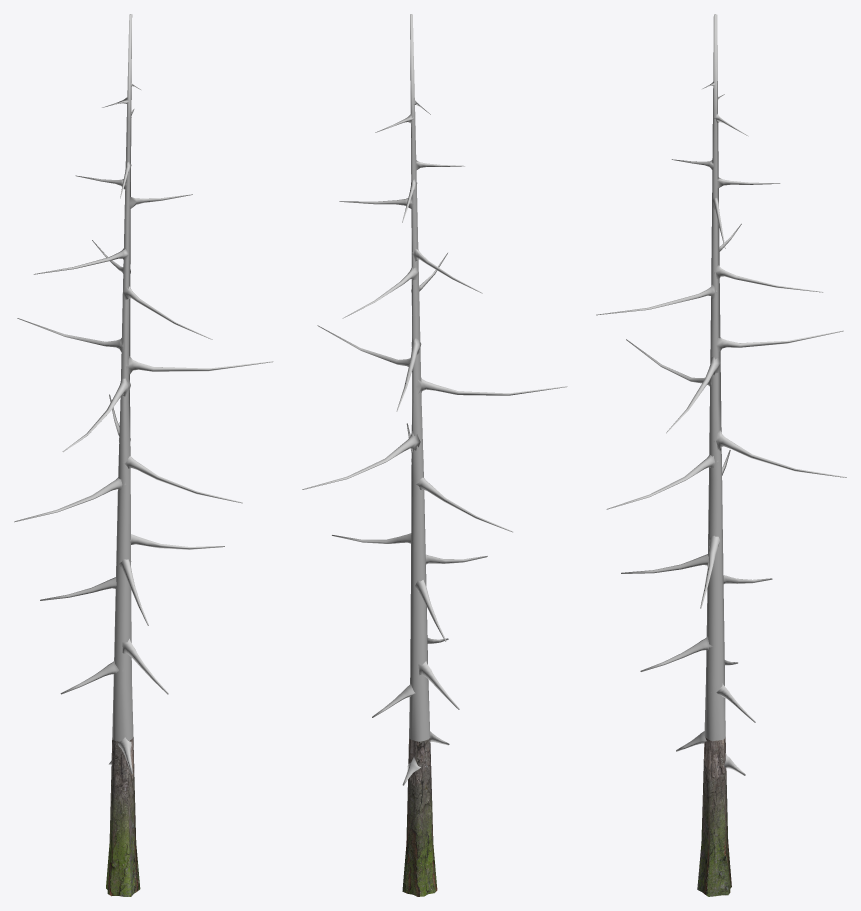
The model's file is pine_no_leaves.obj.
The picture shows the model from 3 angles, left to right: view 1: azimuth 30°, elevation 25°; view 2: azimuth 150°, elevation 25°; view 3: azimuth 270°, elevation 25°; orthographic projection.
Visible parts, largest first — view 1: bark07, pine_blend; view 2: bark07, pine_blend; view 3: bark07, pine_blend.
Boxes of the visible parts, x1,y1,x2,y2 form: bark07: (14, 14, 273, 773); pine_blend: (106, 737, 140, 896); bark07: (302, 14, 567, 792); pine_blend: (402, 738, 437, 896); bark07: (596, 14, 846, 775); pine_blend: (697, 737, 731, 896).
Bounding box in the file's own units: 9.95 × 36.03 × 9.31.
